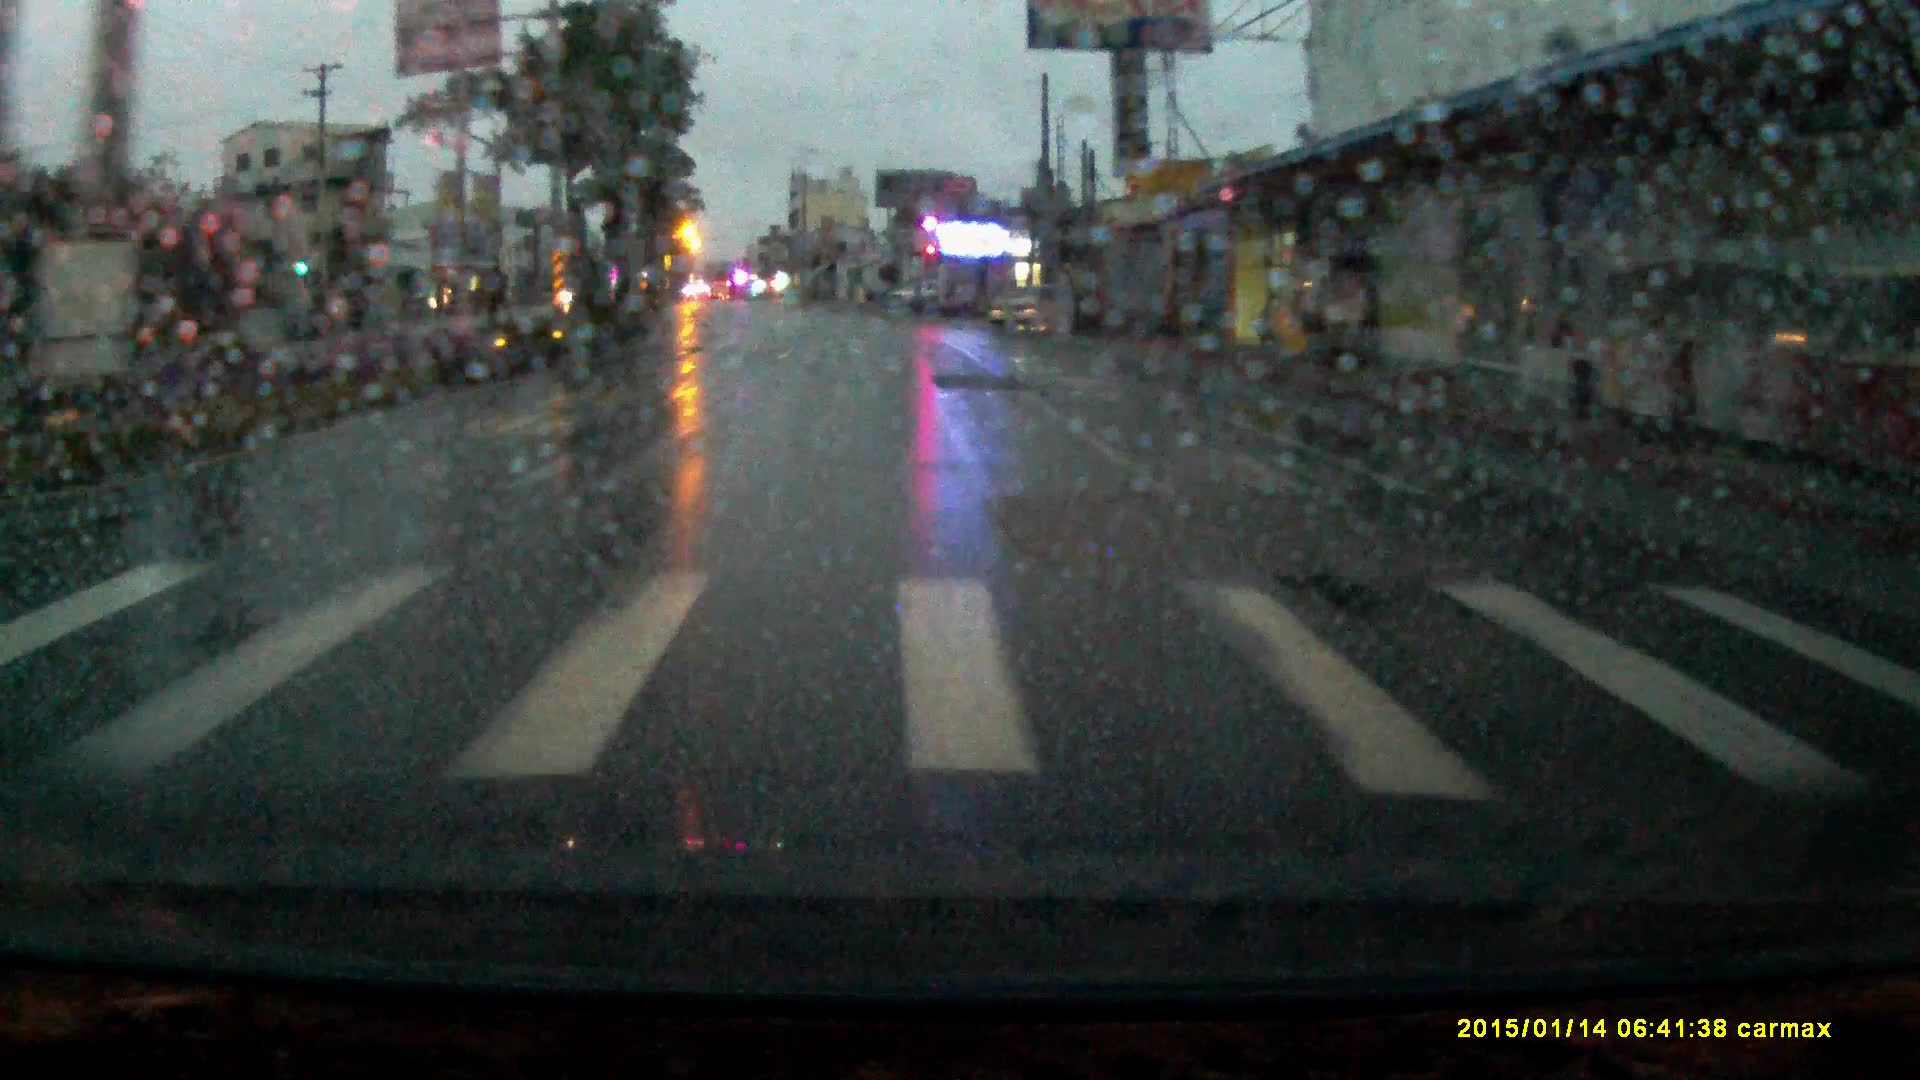vehicle: (992, 286, 1077, 331), (889, 278, 942, 307)
